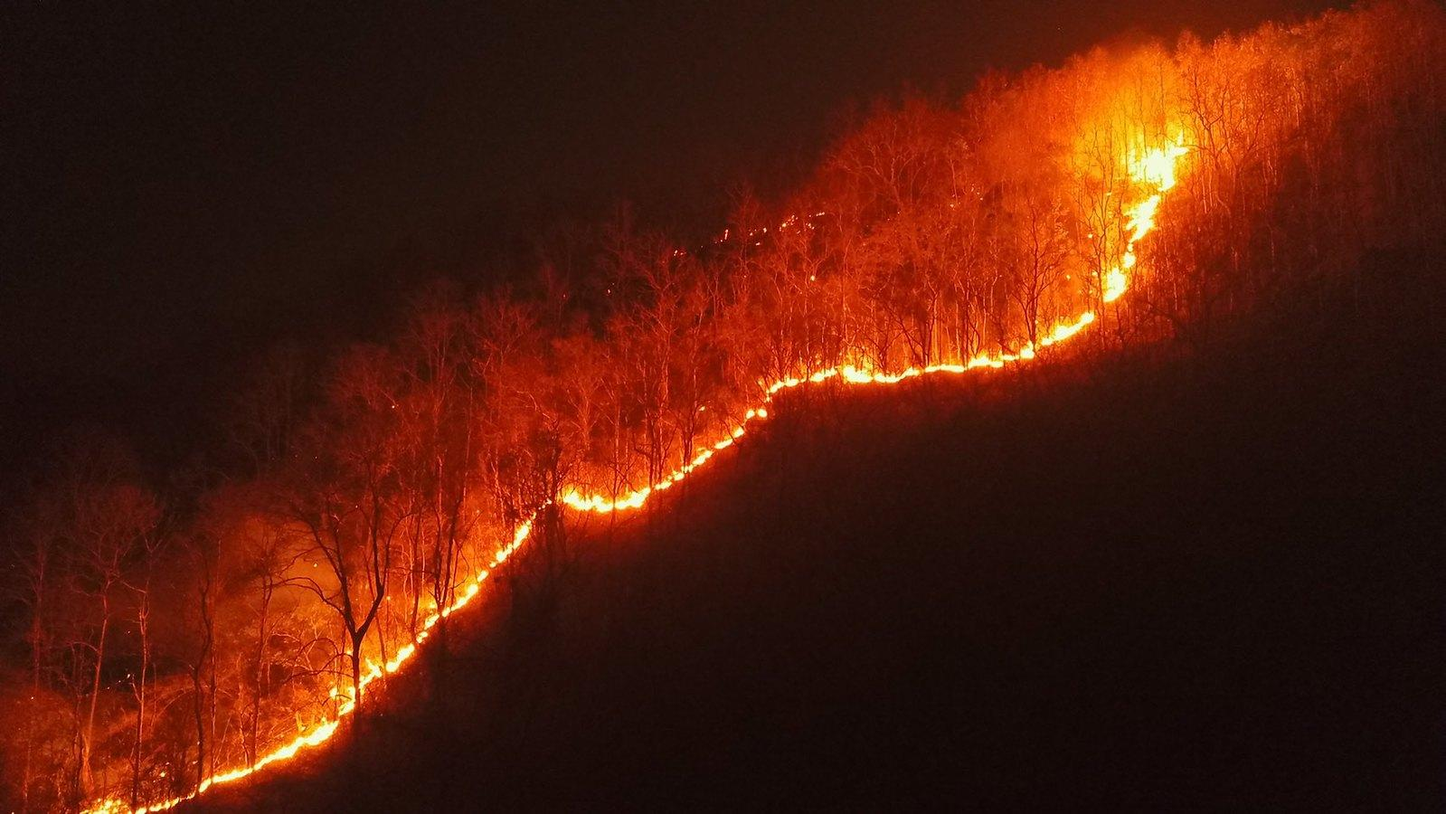fire: (238, 111, 1243, 780)
